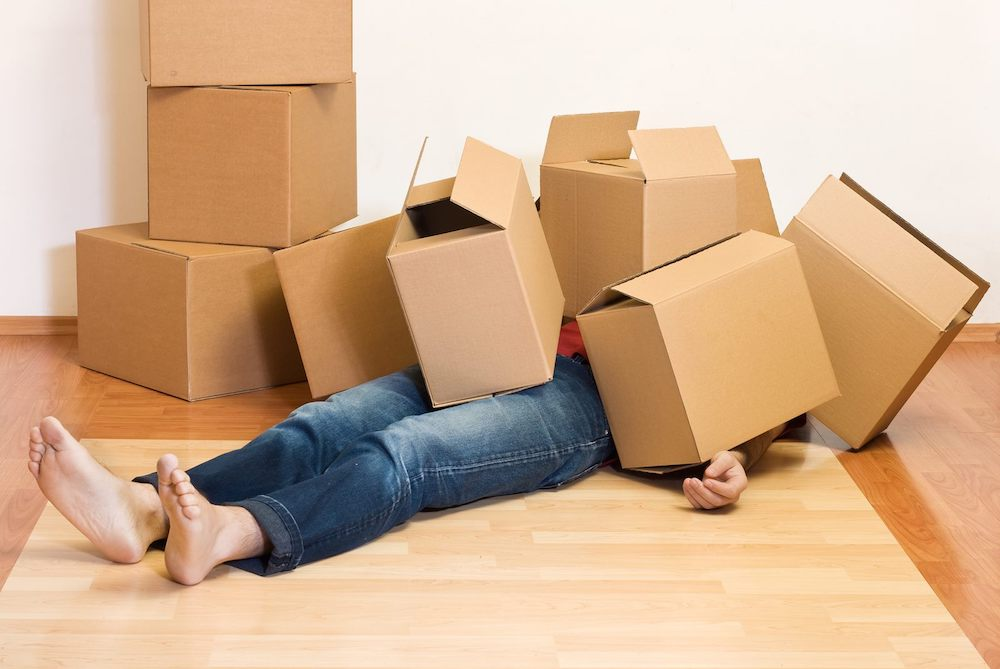unusual: (26, 58, 961, 609)
